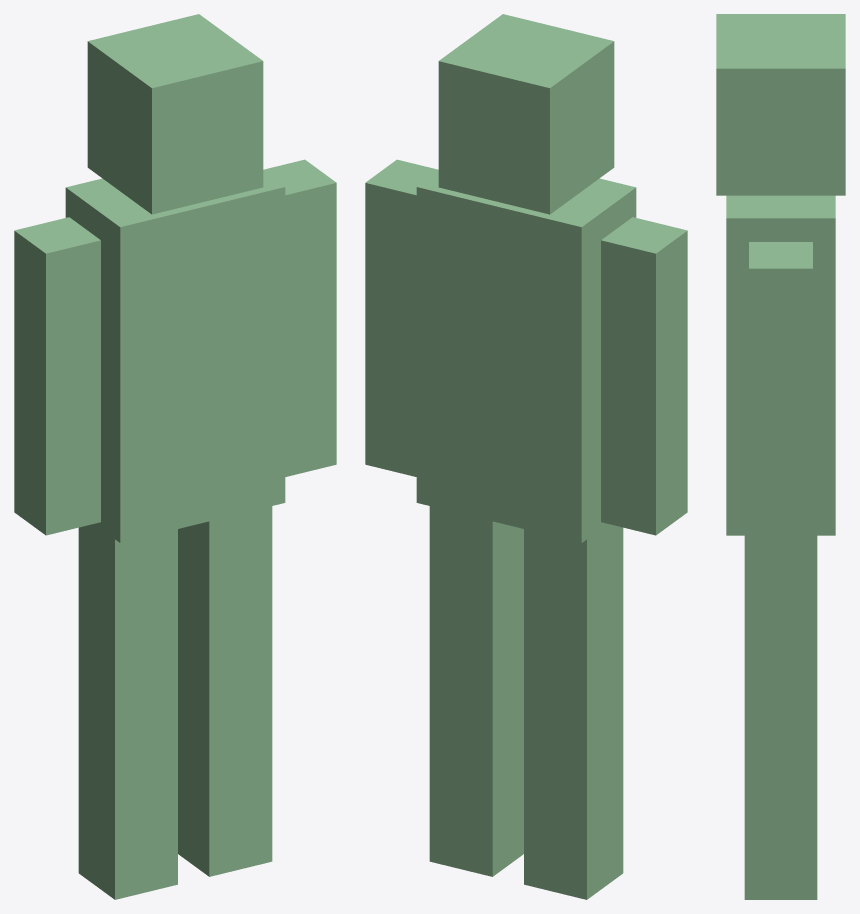
The model's file is elf_envoy.glb.
3 renders of one model, left to right at view 1: azimuth 30°, elevation 25°; view 2: azimuth 150°, elevation 25°; view 3: azimuth 270°, elevation 25°, orthographic.
Visible parts, largest first — view 1: elf_envoy; view 2: elf_envoy; view 3: elf_envoy.
Part boxes in pixels (left/top/right/bottom): elf_envoy: left=14, top=14, right=336, bottom=899; elf_envoy: left=365, top=14, right=687, bottom=899; elf_envoy: left=716, top=14, right=845, bottom=899.
Bounding box in the file's own units: 0.6512 × 1.75 × 0.2496.
